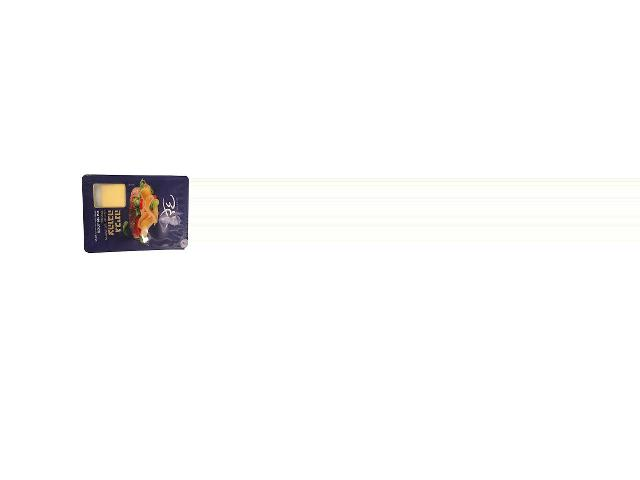cheese: (81, 174, 189, 255)
